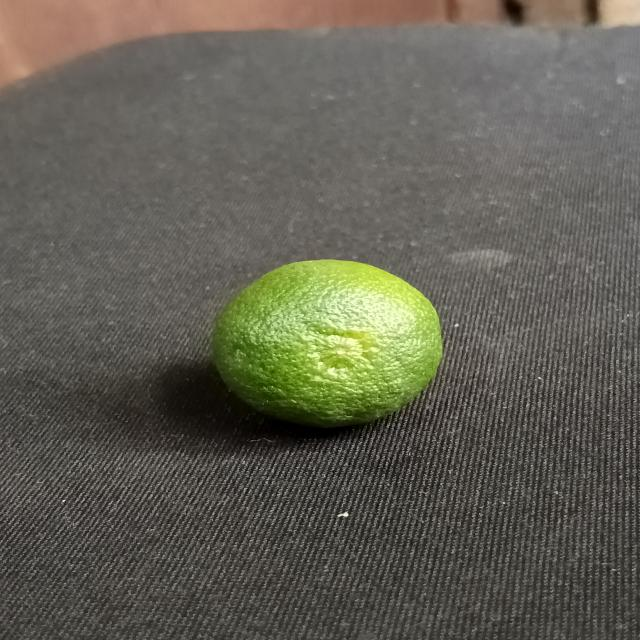heathy: (216, 258, 449, 430)
